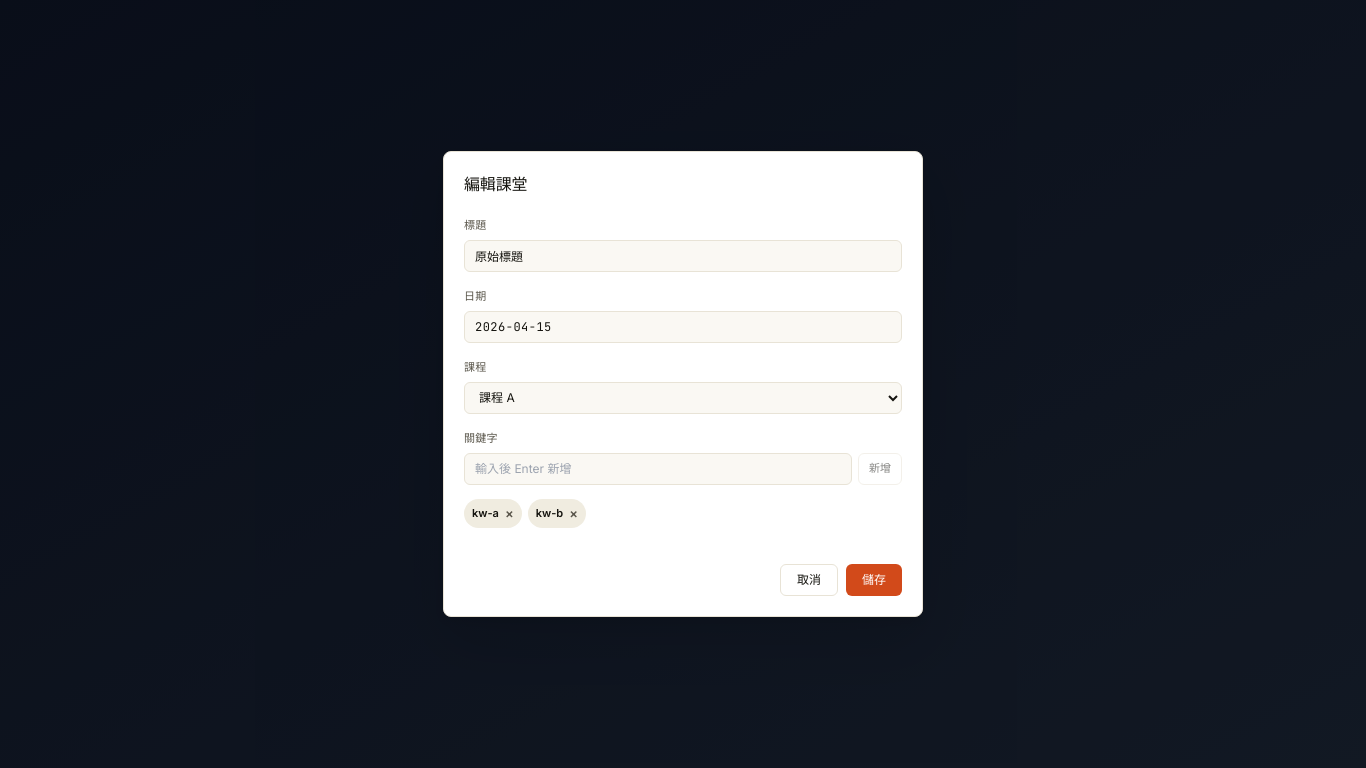
it: LectureEditDialog › updates date when a day is picked from DayPicker
Click the button "2026-04-15": (513, 327) [464, 311, 902, 343]
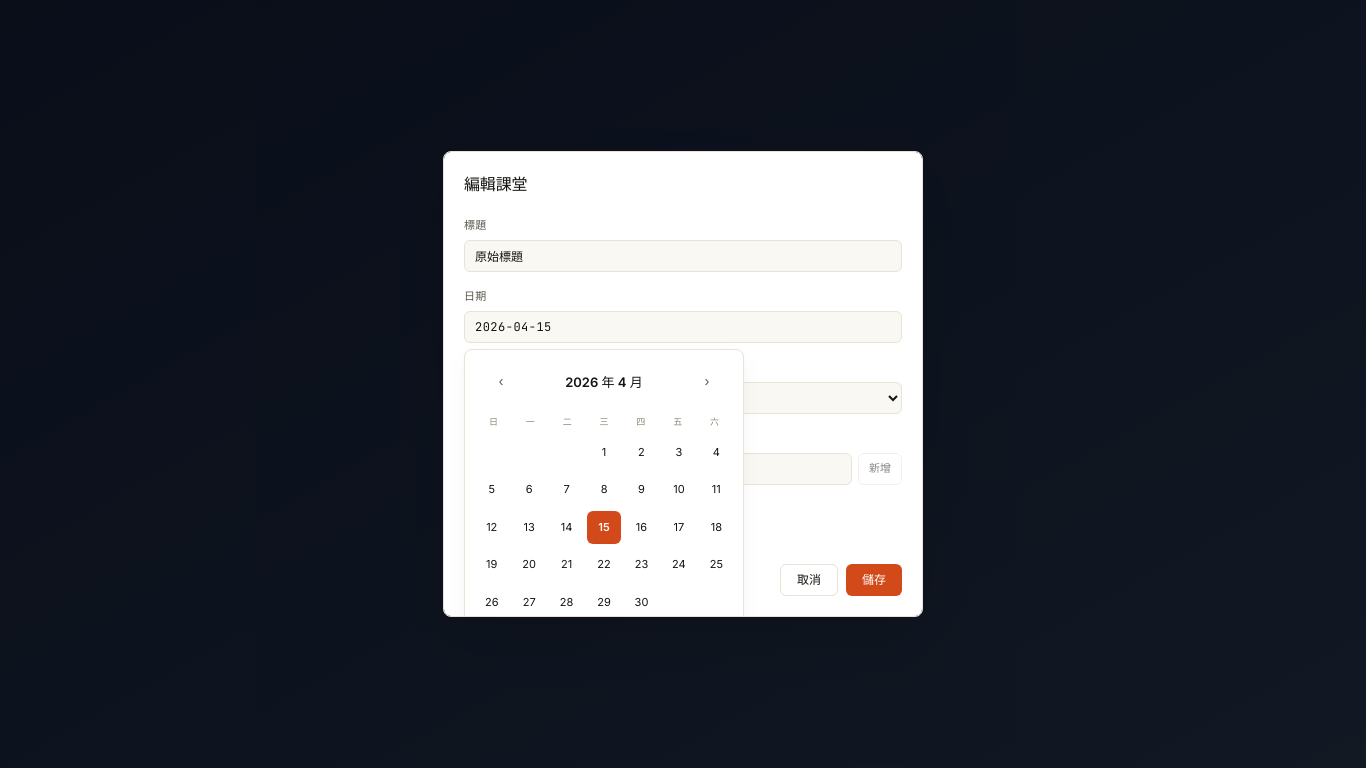
Check: the button "22" is shown
Click the button "22": (604, 565) [587, 548, 621, 582]
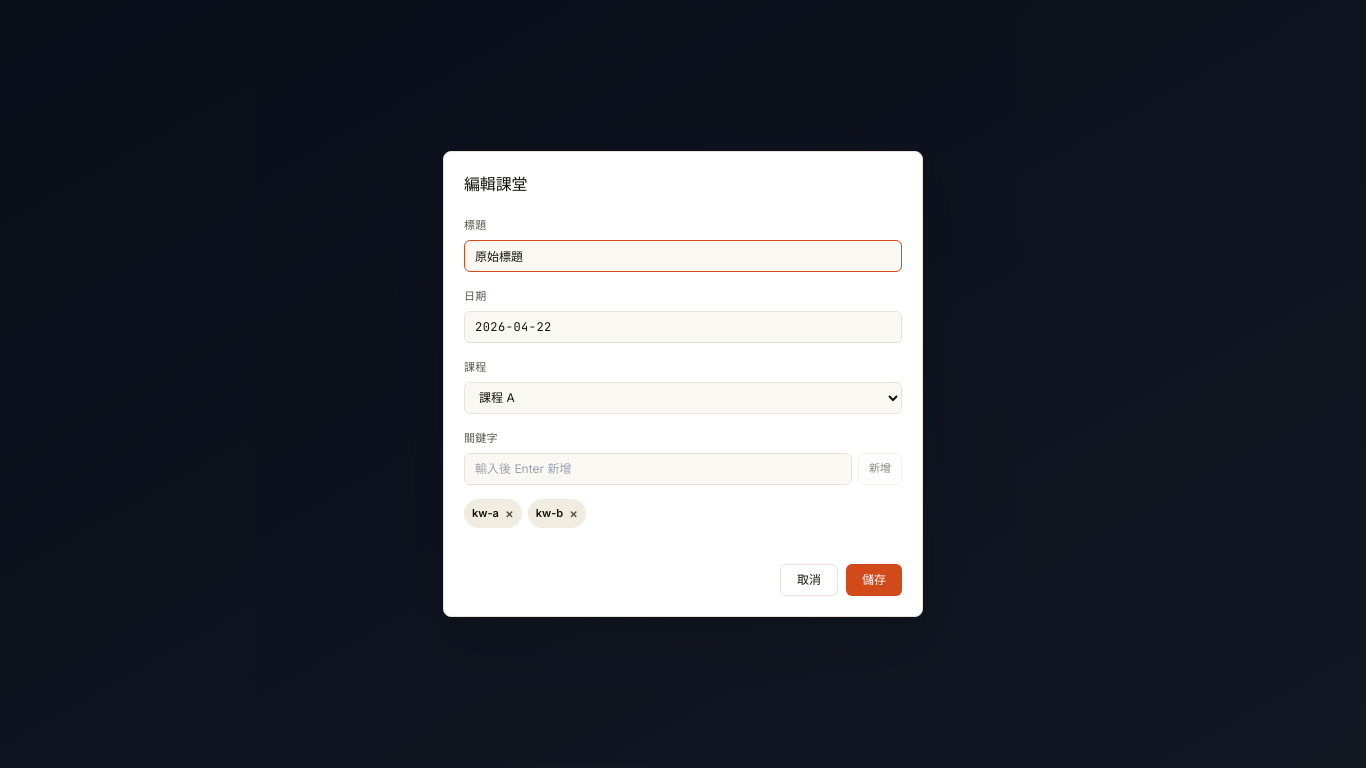
Check: the button "2026-04-22" is shown, box [464, 311, 902, 343]
Check: the dialog "選擇日期" is gone
